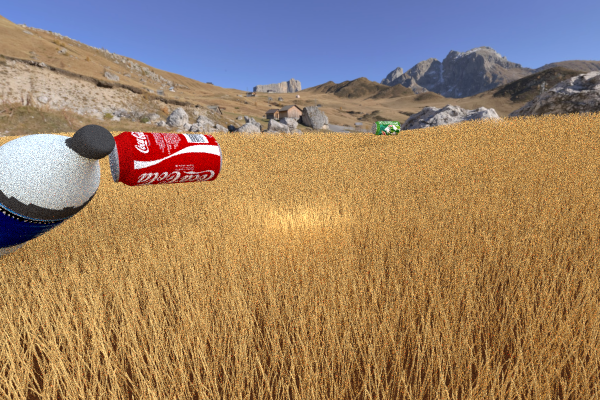Plastic Bottle: (0, 124, 115, 266), (108, 131, 222, 186), (371, 121, 400, 135)
